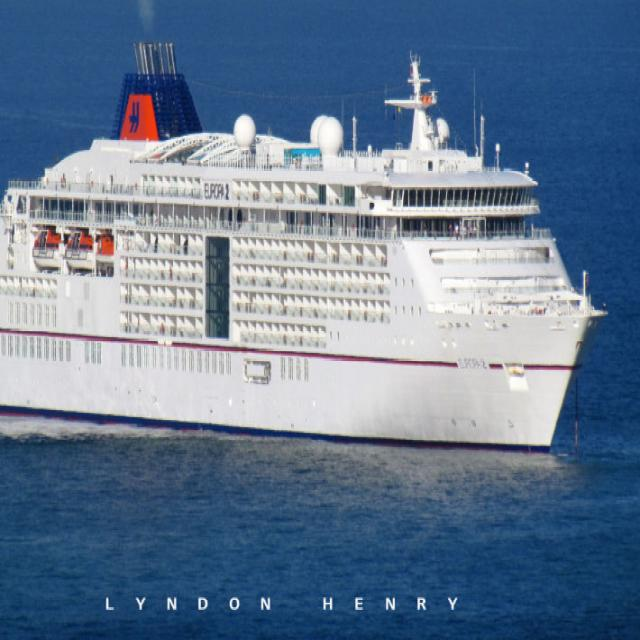cruises: (1, 5, 604, 467)
